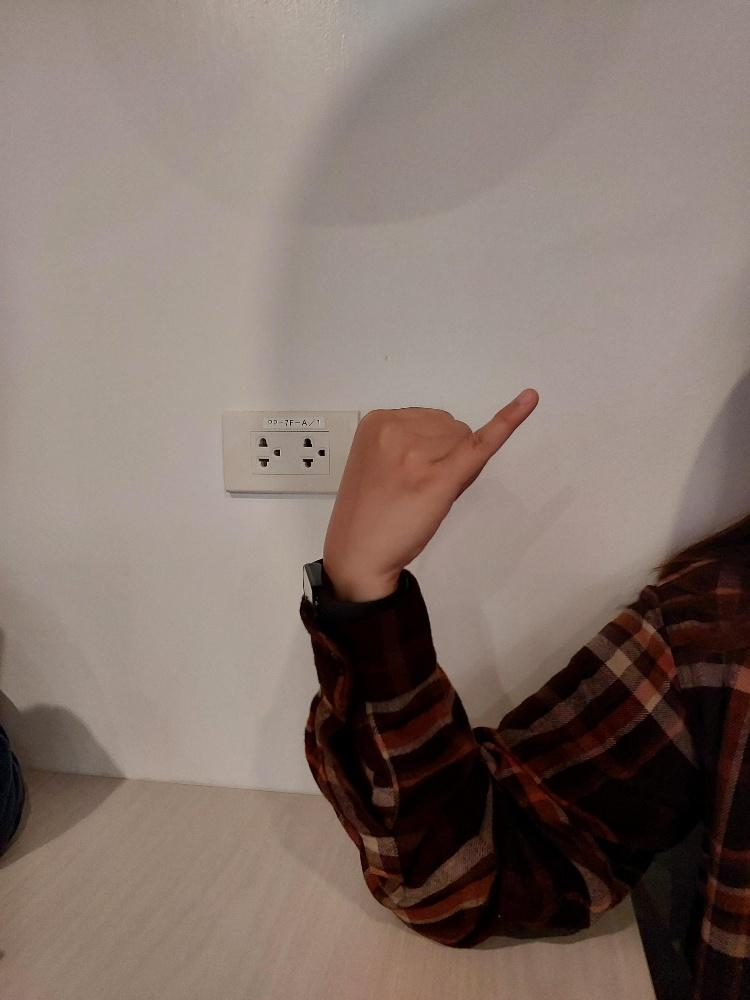j: (320, 381, 543, 580)
